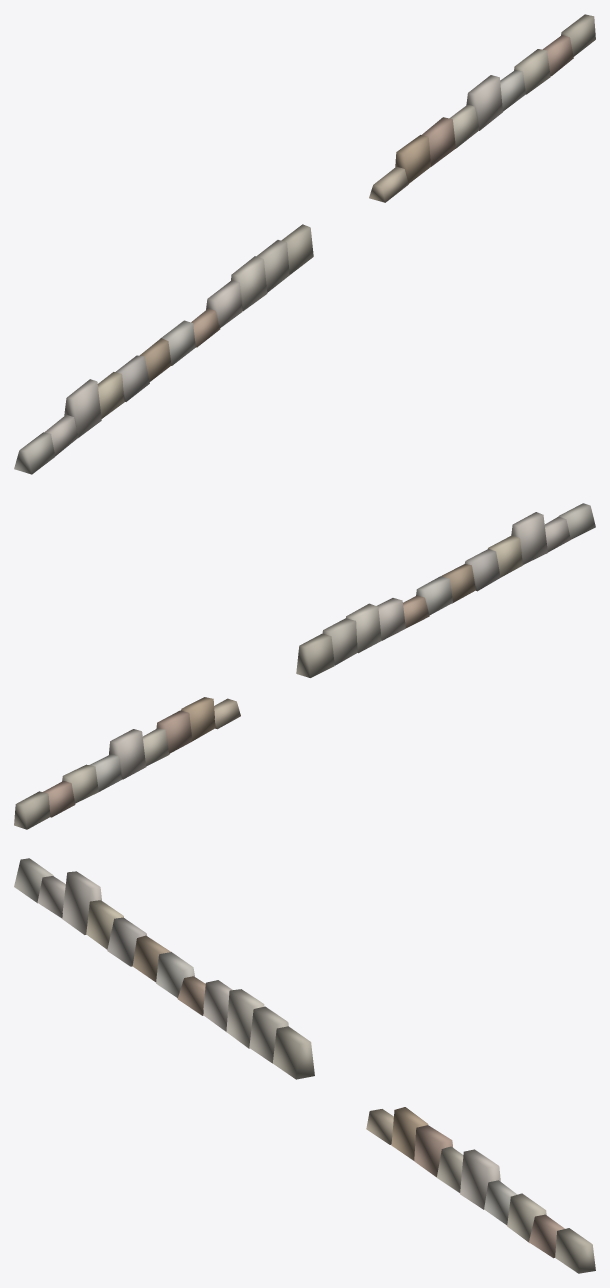
The model's file is farm_-33_-37_far.glb.
3 renders of one model, top to bottom at view 1: azimuth 30°, elevation 25°; view 2: azimuth 210°, elevation 25°; view 3: azimuth 270°, elevation 25°, orthographic. The views are drawn at different scales.
Visible parts, largest first — view 1: geometry_0; view 2: geometry_0; view 3: geometry_0.
Part boxes in pixels (<box>): geometry_0: <box>14,14,595,474</box>; geometry_0: <box>14,503,595,829</box>; geometry_0: <box>14,858,595,1273</box>.
Bounding box in the file's own units: 33.62 × 3.56 × 17.55.
